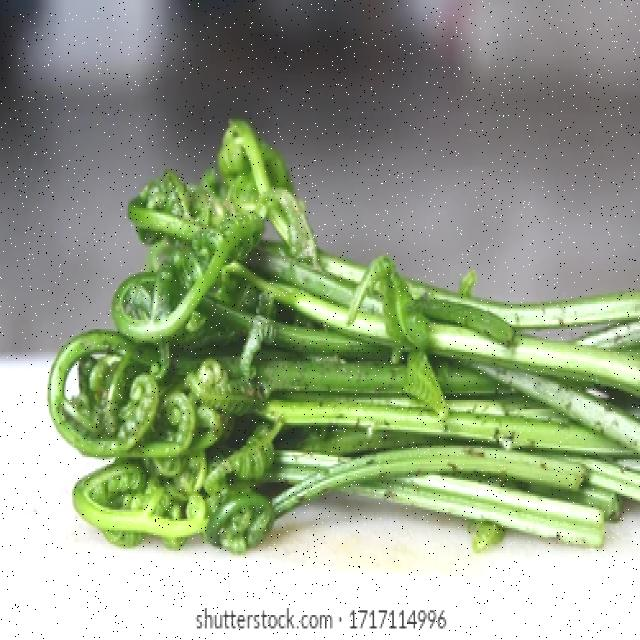Fiddlehead Ferns: (31, 154, 542, 598)
